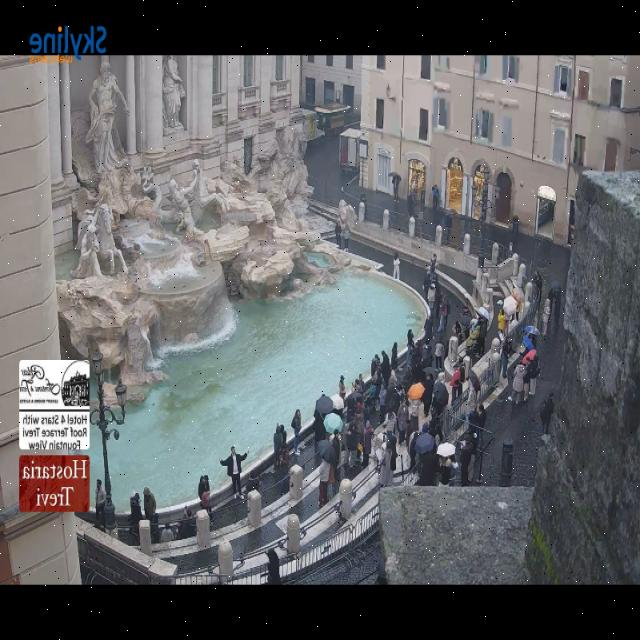person: (220, 446, 247, 497), (468, 405, 485, 455), (416, 445, 437, 485), (408, 425, 427, 469), (508, 363, 524, 404), (318, 458, 331, 508), (460, 435, 472, 487), (540, 391, 554, 434), (465, 320, 479, 362), (428, 406, 443, 445), (467, 408, 479, 455), (420, 372, 433, 415), (128, 492, 141, 535), (379, 442, 391, 487), (266, 549, 281, 584), (396, 402, 408, 444), (465, 383, 476, 428), (406, 429, 418, 470), (500, 335, 511, 379), (176, 508, 191, 539), (386, 436, 396, 481), (476, 404, 486, 449), (313, 411, 325, 448), (347, 424, 357, 468), (449, 364, 460, 404), (532, 270, 542, 314), (96, 479, 105, 527), (528, 356, 539, 395), (143, 488, 155, 522), (291, 410, 300, 455), (433, 275, 441, 325), (411, 339, 421, 379), (385, 384, 399, 412), (381, 411, 396, 437), (340, 422, 349, 464), (405, 416, 416, 449), (448, 455, 459, 487), (408, 398, 419, 430), (330, 430, 339, 469), (245, 470, 259, 495), (372, 366, 382, 401), (521, 359, 529, 402), (477, 318, 486, 356), (438, 457, 450, 485), (458, 359, 467, 396), (375, 557, 387, 584), (381, 351, 390, 387), (438, 297, 447, 332), (280, 425, 287, 469), (459, 315, 470, 343), (273, 424, 280, 468), (434, 336, 443, 370), (354, 403, 363, 437), (149, 513, 159, 543), (541, 299, 549, 336), (497, 305, 505, 341), (452, 320, 464, 344), (378, 385, 385, 424), (427, 284, 435, 318), (421, 342, 431, 369), (512, 290, 520, 322), (160, 523, 173, 542), (553, 288, 560, 323), (424, 313, 431, 348), (392, 176, 401, 203), (345, 398, 355, 421), (200, 491, 210, 514), (197, 476, 207, 499), (422, 271, 430, 299), (341, 223, 349, 251), (406, 330, 412, 367), (416, 188, 425, 211), (390, 343, 397, 371), (406, 191, 413, 217), (371, 355, 379, 377), (429, 255, 435, 282), (393, 252, 399, 279), (388, 368, 397, 385), (335, 218, 340, 248), (527, 333, 536, 349), (338, 376, 344, 399), (432, 185, 437, 212), (357, 373, 363, 394), (204, 475, 209, 492), (336, 449, 338, 459)
